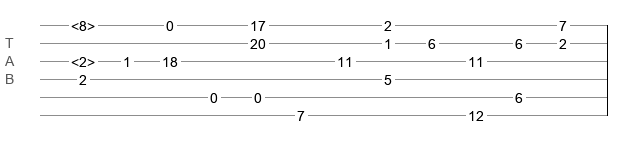0: (166, 18, 174, 28), (210, 90, 218, 100), (254, 90, 262, 100)
1: (123, 54, 131, 64), (384, 36, 392, 46)
11: (337, 54, 353, 64), (468, 54, 484, 64)
12: (468, 108, 484, 118)
17: (250, 18, 266, 28)
18: (162, 54, 178, 64)
2: (79, 72, 87, 82), (384, 18, 392, 28), (559, 36, 567, 46)
20: (250, 36, 266, 46)
5: (384, 72, 392, 82)
6: (428, 36, 436, 46), (515, 90, 523, 100), (515, 36, 523, 46)
7: (297, 108, 305, 118), (559, 18, 567, 28)
harmonic: (71, 54, 95, 64), (71, 18, 95, 28)
